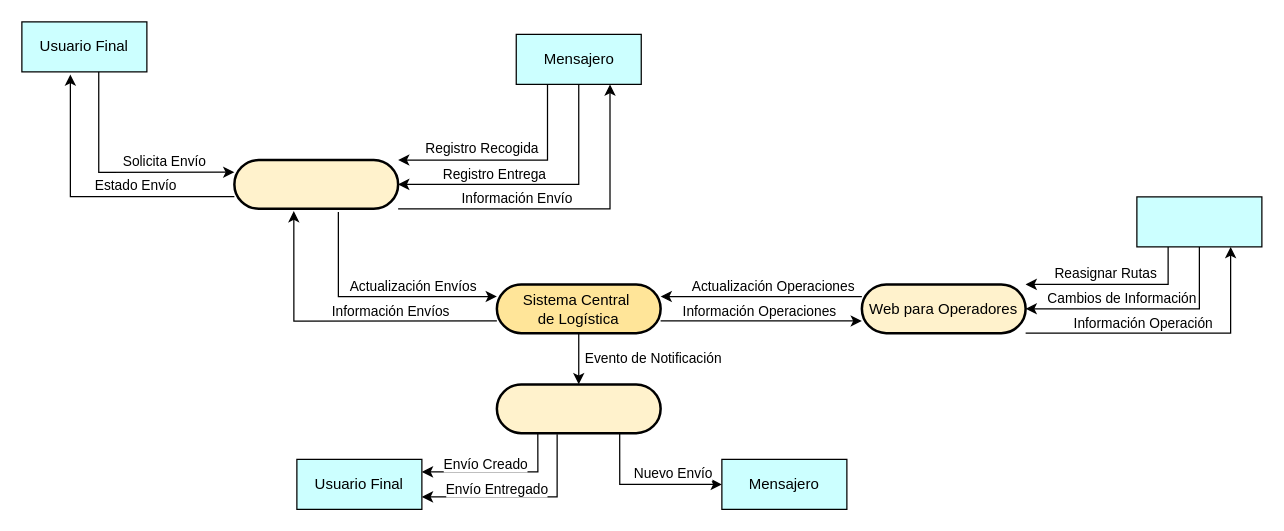
The diagram is 1284 pixels wide and 531 high, and some of its shapes have lost their labels. Each missing label, with the centre of its shape:
"API de Notificaciones" goes at point (578, 408).
"App de Cliente" goes at point (315, 183).
"Operador Logístico" goes at point (1199, 221).
